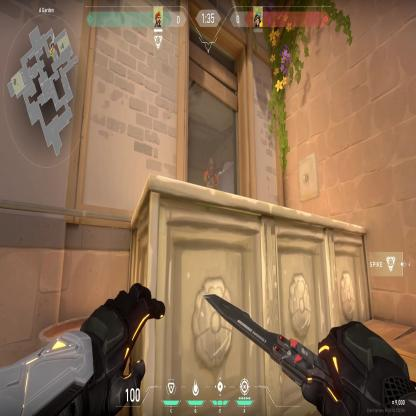enemy: (202, 154, 220, 194)
